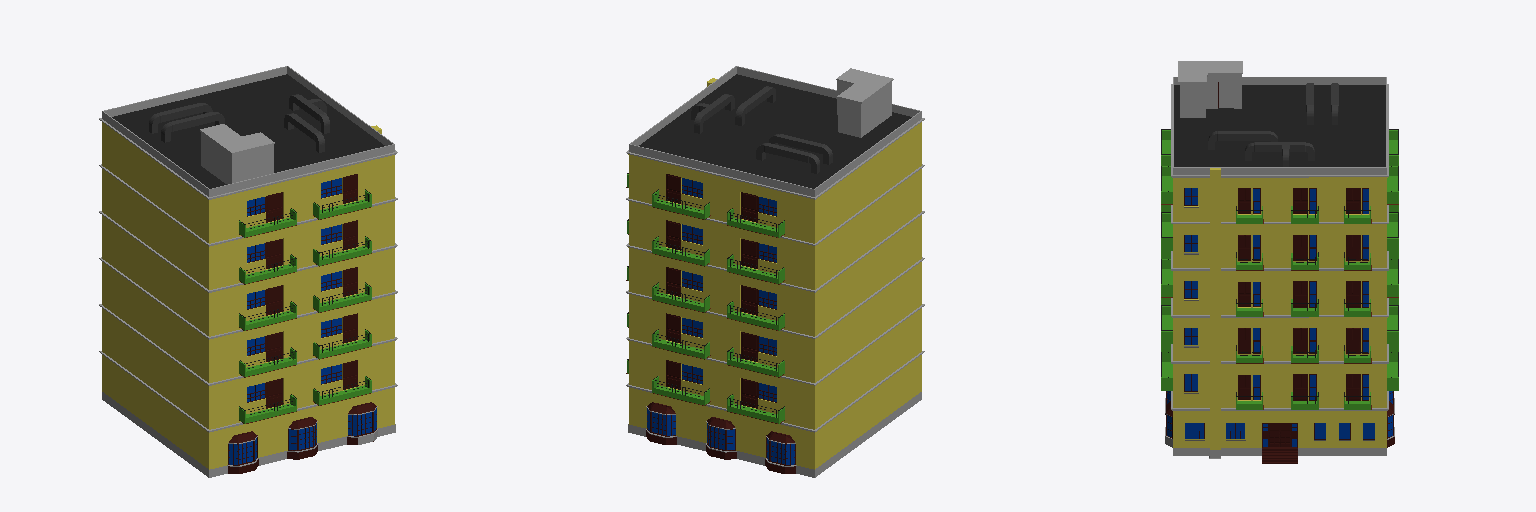
The model's file is block001.obj.
3 renders of one model, left to right at view 1: azimuth 30°, elevation 25°; view 2: azimuth 150°, elevation 25°; view 3: azimuth 270°, elevation 25°, orthographic.
Visible parts, largest first — view 1: Floors_Cube.003, Roof_Cube.035, Ground_Floor_Cube, side_windows_Cylinder, SIde_Window_Cylinder.003; view 2: Floors_Cube.003, Roof_Cube.035, Ground_Floor_Cube, side_windows_Cylinder; view 3: Floors_Cube.003, Roof_Cube.035, Ground_Floor_Cube, Main_Door_Cube.001, Stairs_Cube.029.
Boxes of the visible parts, x1,y1,x2,y2 form: Floors_Cube.003: [99, 164, 397, 429]; Roof_Cube.035: [99, 66, 397, 243]; Ground_Floor_Cube: [99, 351, 397, 477]; side_windows_Cylinder: [227, 404, 376, 473]; SIde_Window_Cylinder.003: [347, 402, 377, 444]; Floors_Cube.003: [626, 164, 924, 429]; Roof_Cube.035: [626, 66, 924, 243]; Ground_Floor_Cube: [626, 351, 924, 477]; side_windows_Cylinder: [646, 402, 796, 473]; Floors_Cube.003: [1161, 205, 1398, 410]; Roof_Cube.035: [1161, 61, 1398, 224]; Ground_Floor_Cube: [1171, 391, 1388, 458]; Main_Door_Cube.001: [1262, 423, 1297, 447]; Stairs_Cube.029: [1262, 448, 1297, 463].
Size of the model in its own units: 2.2 by 3.25 by 2.22.